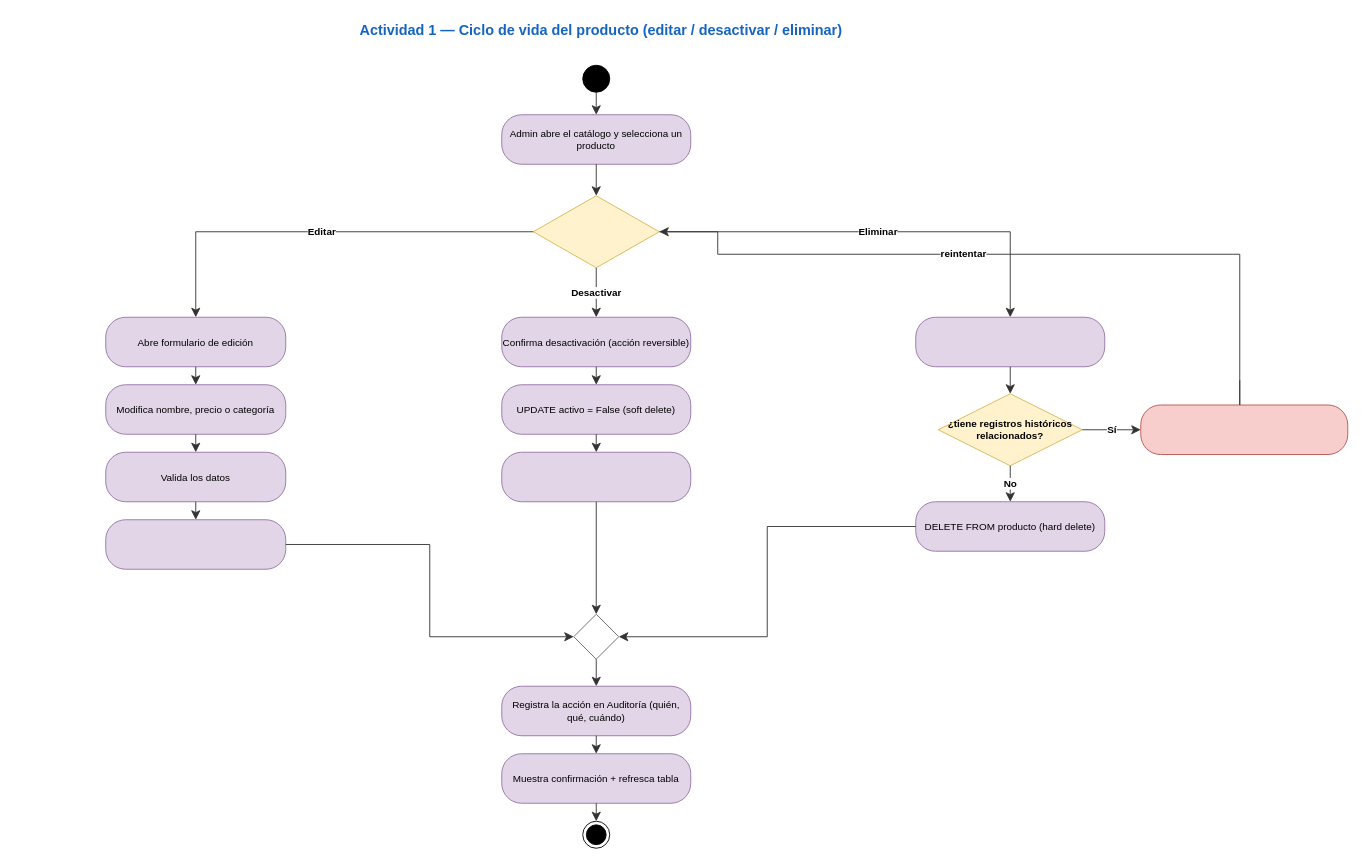
The diagram is 1364 pixels wide and 864 high, and some of its shapes have lost their labels. Here are the shapes that lost their labels. From the top down, the centre of each, then its label:
[595,231]: ¿Qué acción va a realizar?
[1010,341]: Confirma eliminación (irreversible)
[1244,429]: Bloqueado: desactive el producto para conservar el historial
[596,476]: Deja de aparecer en el listado de productos activos
[195,544]: UPDATE producto (guarda cambios)
